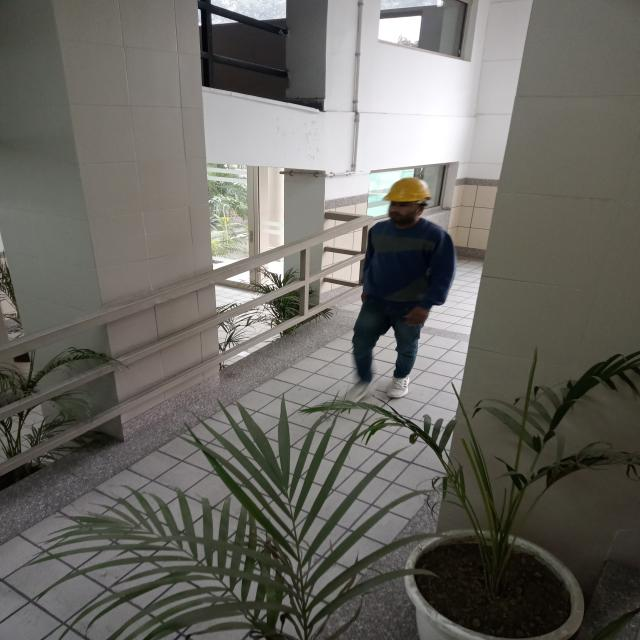no jacket: (349, 172, 456, 404)
